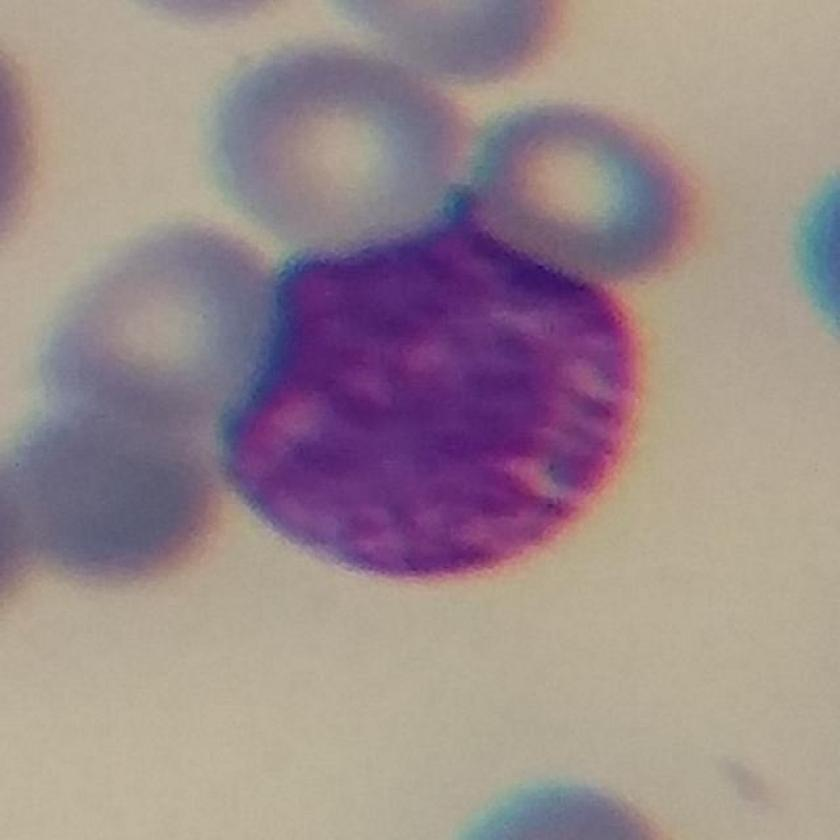basophil: (212, 180, 651, 591)
